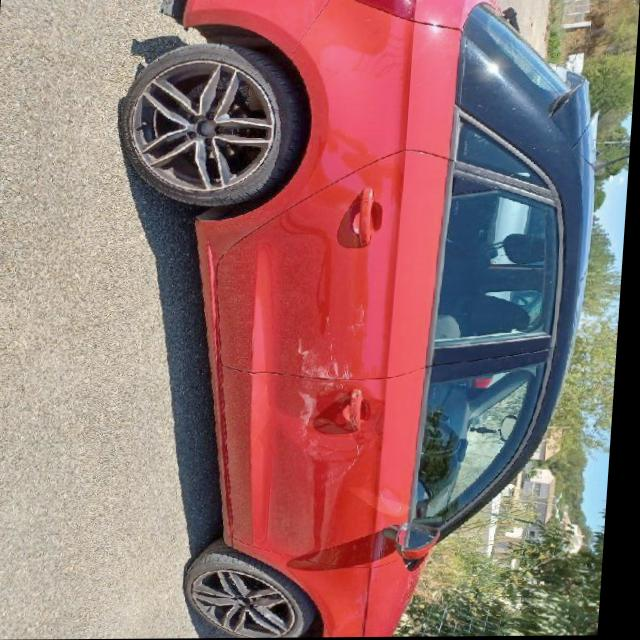porte-avant: (208, 346, 560, 574)
